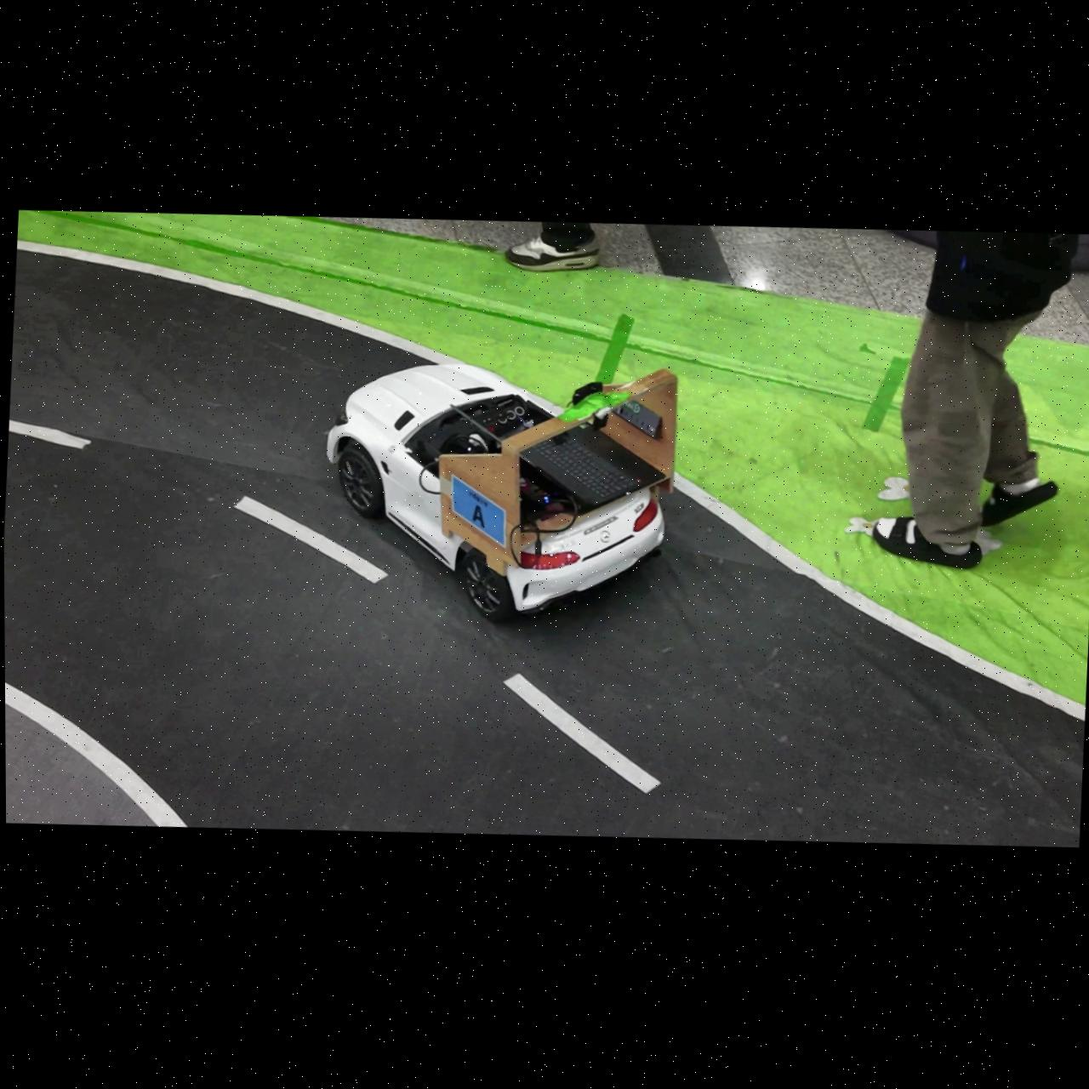broken_line: (502, 672, 662, 794), (232, 495, 389, 583), (8, 419, 92, 449)
